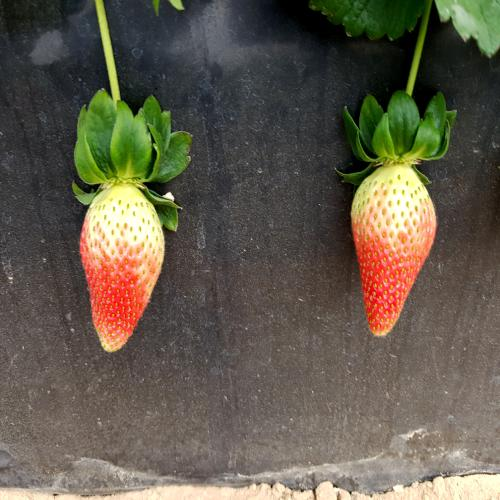partially-ripe: (74, 166, 172, 364), (342, 156, 442, 343)
